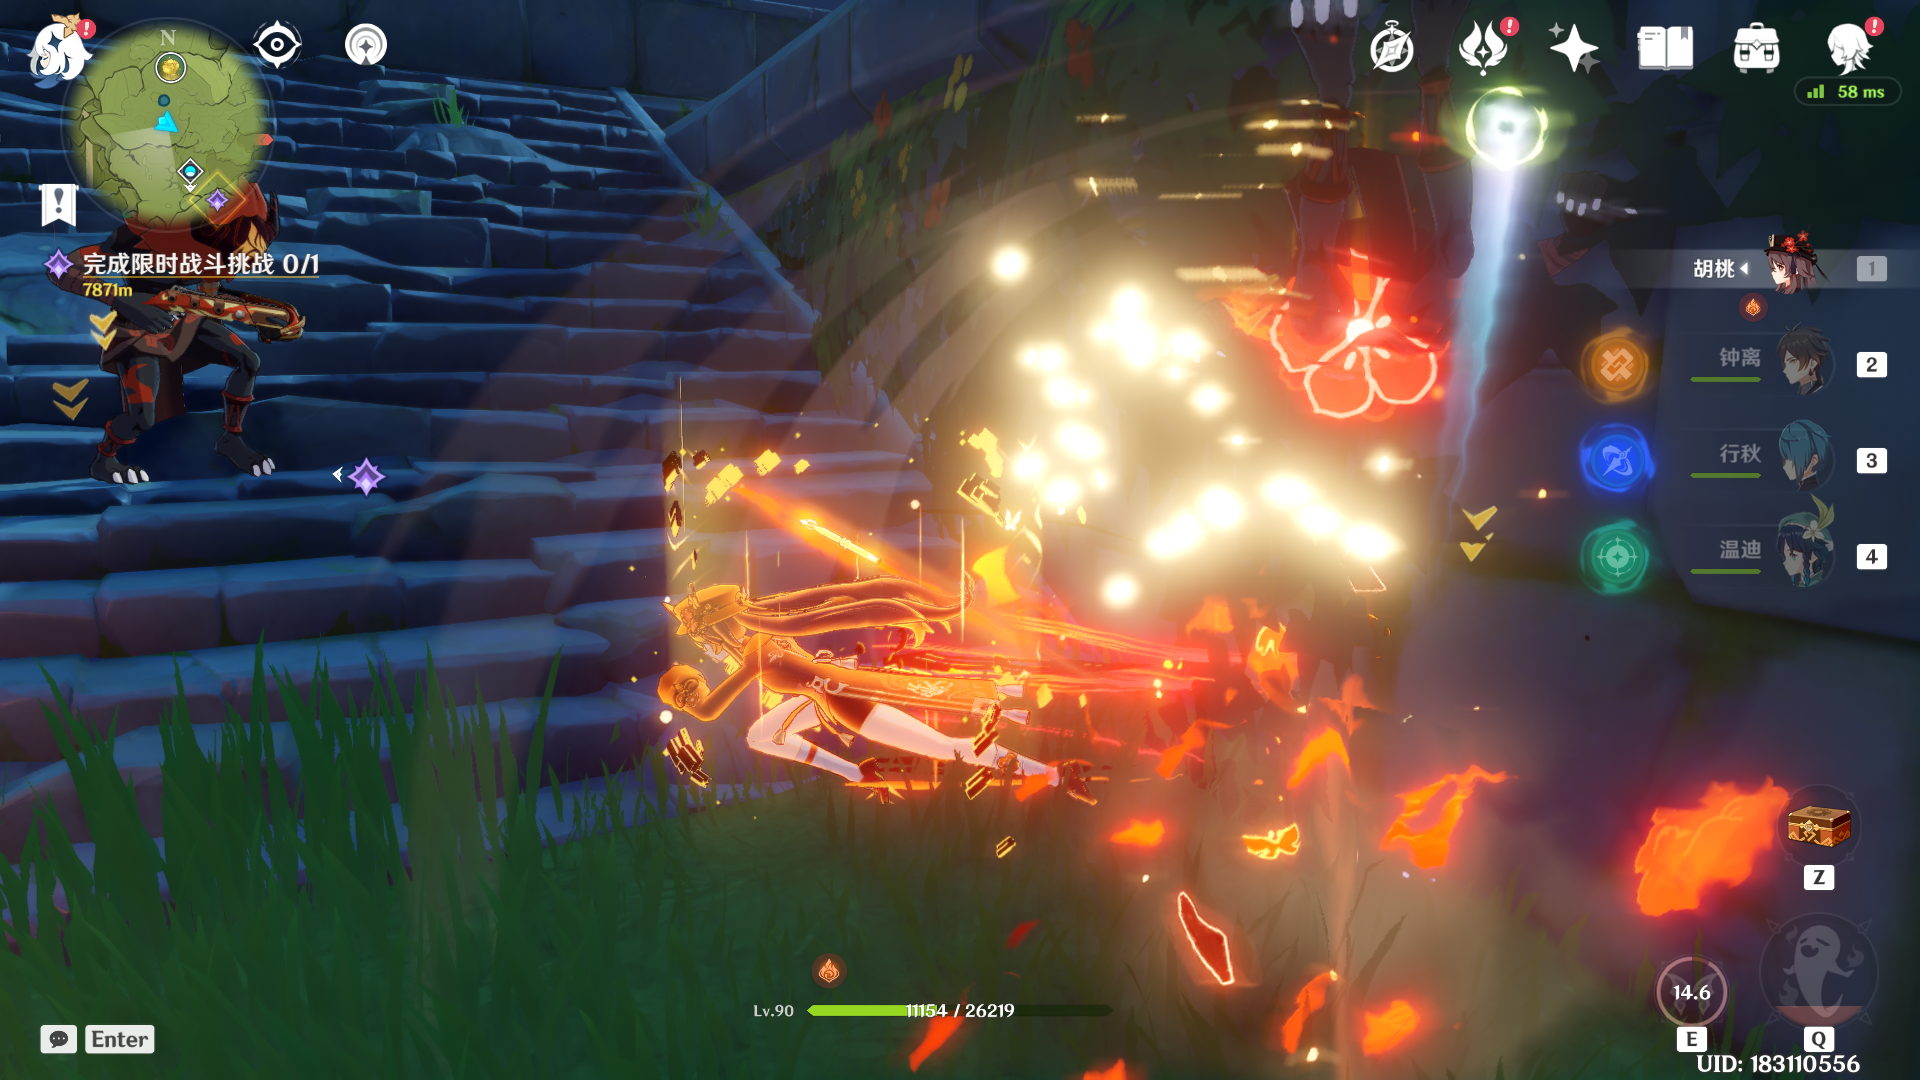character: (657, 570, 1087, 851)
hili: (62, 141, 320, 531)
